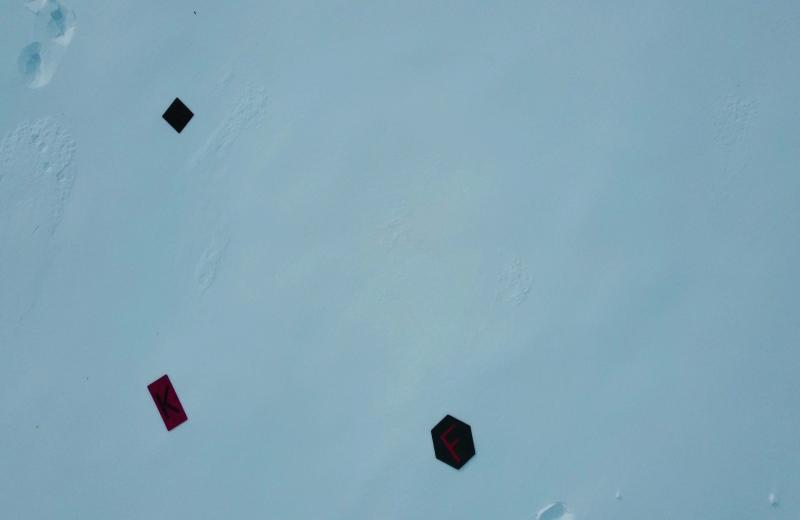Hexagon: (432, 415, 476, 470)
Rectangle: (147, 374, 189, 432)
Square: (161, 97, 194, 134)
